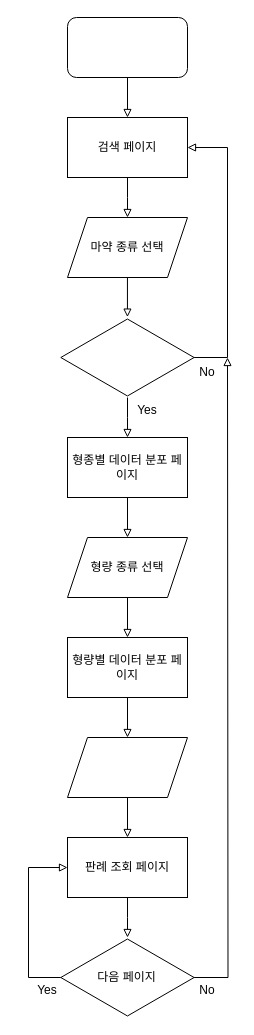
Image size: 254x1035. Some labels were removed from this diagram. Here are the shapes that lost their labels. From the top down, the centre of each, then its label:
At point 127,47: "홈페이지".
At point 127,357: "데이터 유무".
At point 127,767: "형량 범위 선택".
